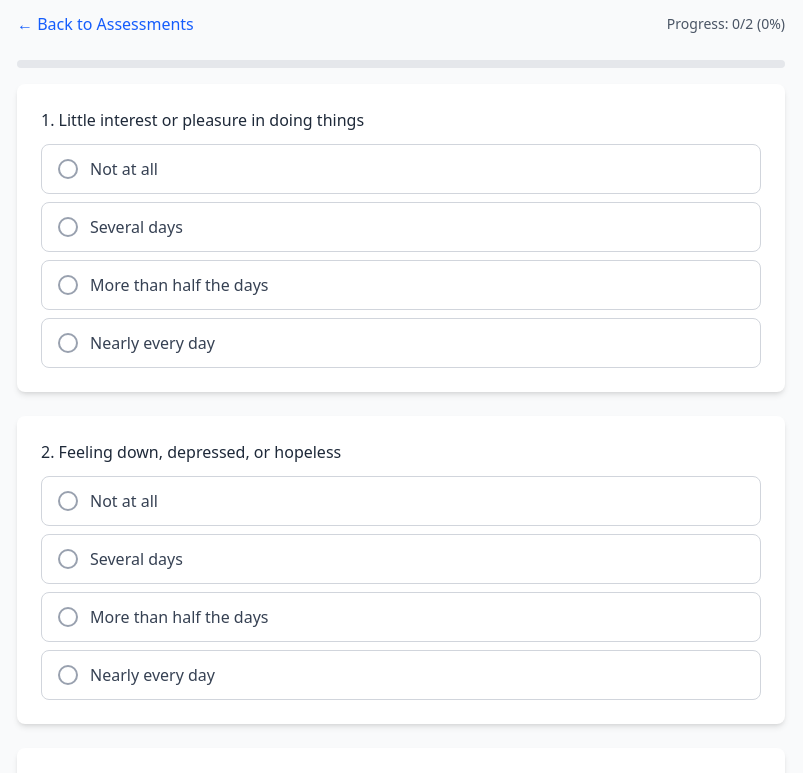
Test: AssessmentForm › Progress Tracking › should update progress when question answered
The image size is (803, 773).
Click first option of first question
Click the 1st radio button labelled "Not at all" at (124,169), box [41,144,761,194]
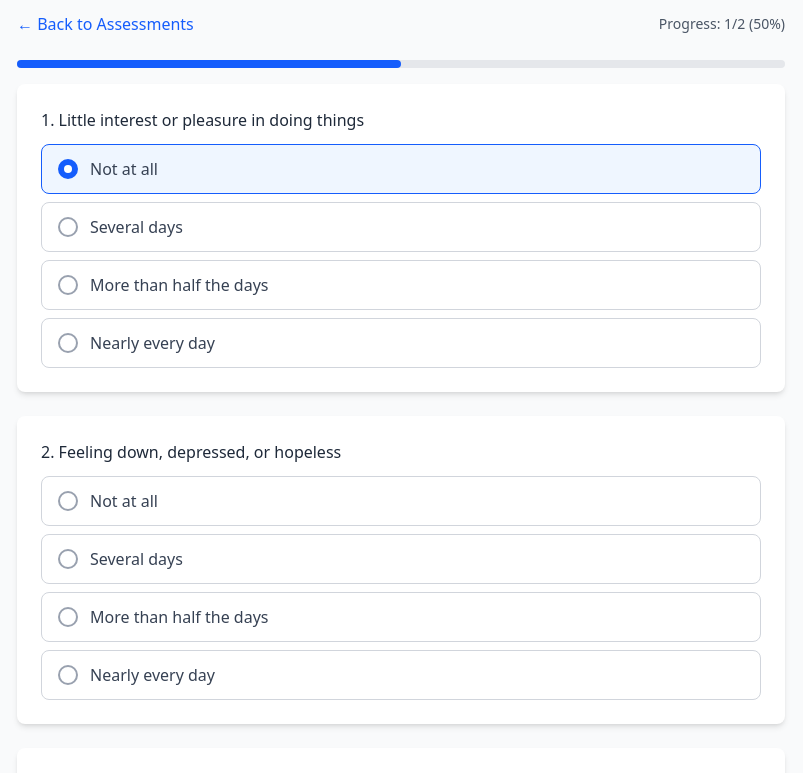
Expected: the text "Progress: 1/2 (50%)" is shown, [659,14,785,34]
